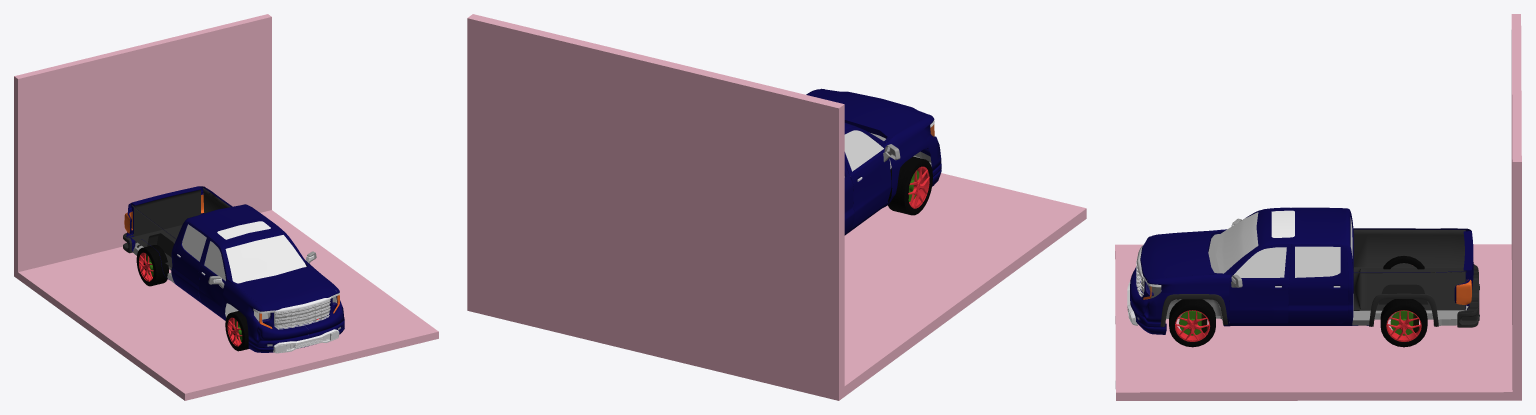
Rendered from car3000.glb.
The picture shows the model from 3 angles, left to right: view 1: azimuth 30°, elevation 25°; view 2: azimuth 150°, elevation 25°; view 3: azimuth 270°, elevation 25°; orthographic projection. The views are drawn at different scales.
Parts seen in each view (by area): view 1: model.001, polySurface14724, Cube.001, polySurface14822.001, prepare_for_client_30:prepare_for_client_09:polySurface1, polySurface14724.002, brake-disc.016, prepare_for_client_30:prepare_for_client_09:for_client:_db64, prepare_for_client_30:for_client:polySurface3177, prepare_for_client_30:prepare_for_client_09:for_client:_6ce8, polySurface14724.003, brake-disc.017 (+1 smaller); view 2: model.001, Cube.001, prepare_for_client_30:prepare_for_client_09:polySurface1, polySurface14724, brake-disc.017, brake-disc.008; view 3: model.001, Cube.001, polySurface14822.001, polySurface14724, prepare_for_client_30:prepare_for_client_09:polySurface1, polySurface14724.002, polySurface14664, brake-disc.003, brake-disc.015, prepare_for_client_30:for_client:polySurface2915, polySurface14576, polySurface14724.003 (+5 smaller).
Boxes of the visible parts, x1,y1,x2,y2 form: model.001: (14, 14, 438, 400); polySurface14724: (171, 204, 344, 352); Cube.001: (173, 221, 301, 319); polySurface14822.001: (131, 188, 230, 267); prepare_for_client_30:prepare_for_client_09:polySurface1: (229, 261, 336, 311); polySurface14724.002: (225, 235, 306, 283); brake-disc.016: (136, 245, 168, 286); prepare_for_client_30:prepare_for_client_09:for_client:_db64: (274, 300, 330, 329); prepare_for_client_30:for_client:polySurface3177: (267, 296, 336, 326); prepare_for_client_30:prepare_for_client_09:for_client:_6ce8: (273, 329, 339, 353); polySurface14724.003: (217, 221, 270, 239); brake-disc.017: (225, 311, 248, 351); model.001: (467, 14, 1086, 400); Cube.001: (844, 127, 891, 233); prepare_for_client_30:prepare_for_client_09:polySurface1: (809, 89, 928, 142); polySurface14724: (806, 88, 941, 235); brake-disc.017: (887, 156, 932, 215); brake-disc.008: (908, 166, 929, 208); model.001: (1115, 14, 1521, 400); Cube.001: (1229, 207, 1348, 323); polySurface14822.001: (1353, 229, 1466, 310); polySurface14724: (1130, 207, 1353, 334); prepare_for_client_30:prepare_for_client_09:polySurface1: (1140, 229, 1225, 280); polySurface14724.002: (1216, 212, 1258, 273); polySurface14664: (1160, 293, 1438, 326); brake-disc.003: (1380, 299, 1427, 347); brake-disc.015: (1169, 299, 1215, 347); prepare_for_client_30:for_client:polySurface2915: (1137, 279, 1468, 325); polySurface14576: (1457, 264, 1479, 327); polySurface14724.003: (1271, 210, 1294, 237).
Size of the model in its own units: 15.78 by 11.85 by 18.3.
Materials: 14 (2 with a texture image).
